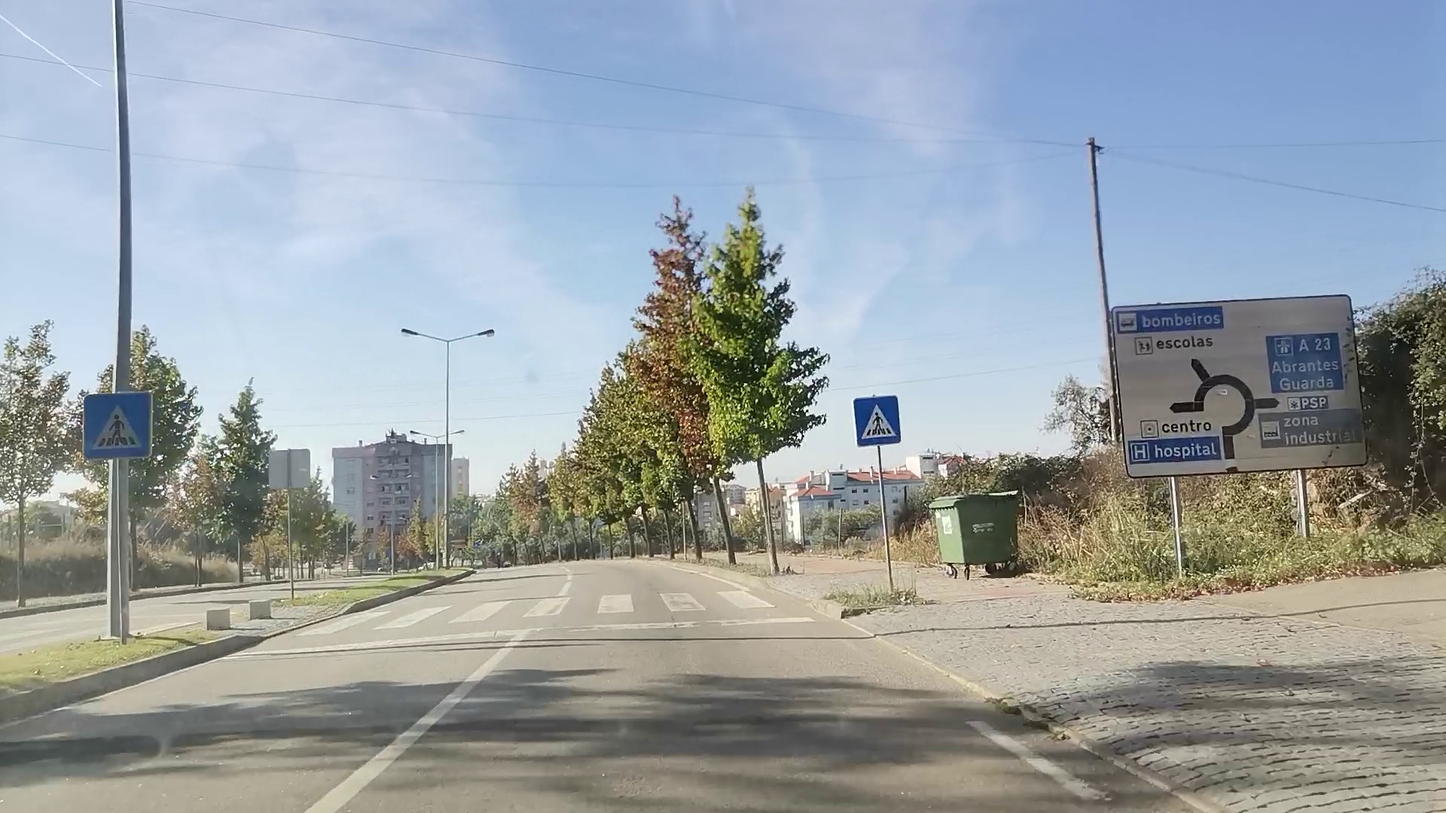Stairs: (305, 586, 773, 637)
